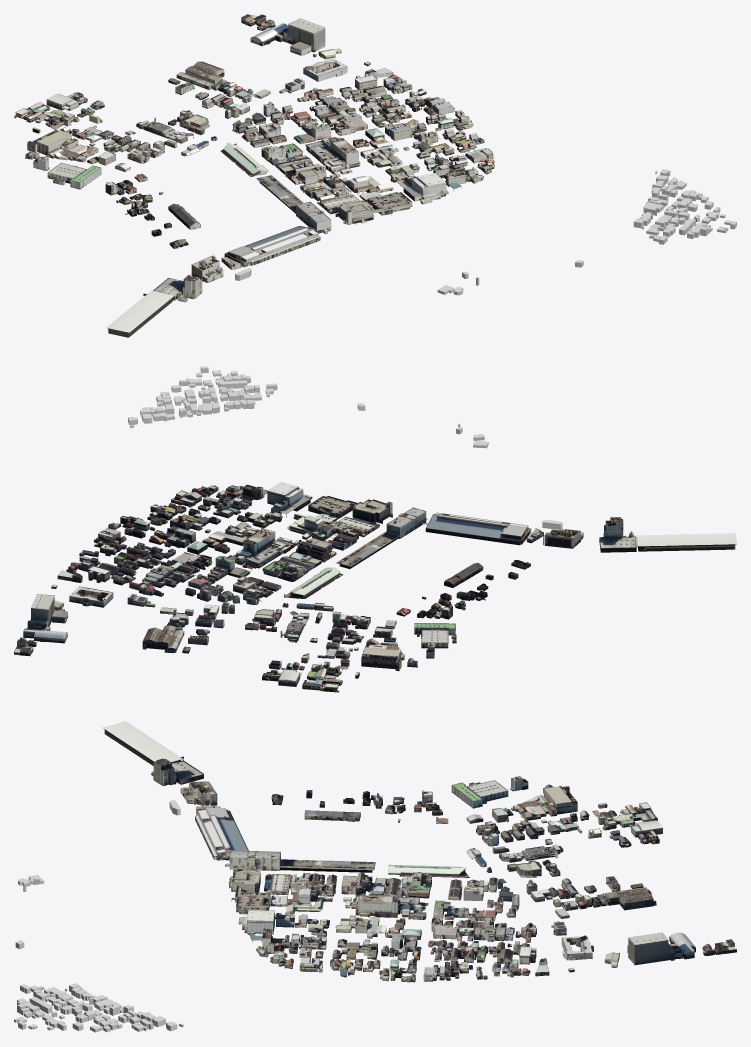
Rendered from port-bldg-tex-packed.glb.
3 renders of one model, top to bottom at view 1: azimuth 30°, elevation 25°; view 2: azimuth 150°, elevation 25°; view 3: azimuth 270°, elevation 25°, orthographic. The views are drawn at different scales.
Size of the model in its own units: 893 by 29.61 by 893.
38 materials, 37 textured.
